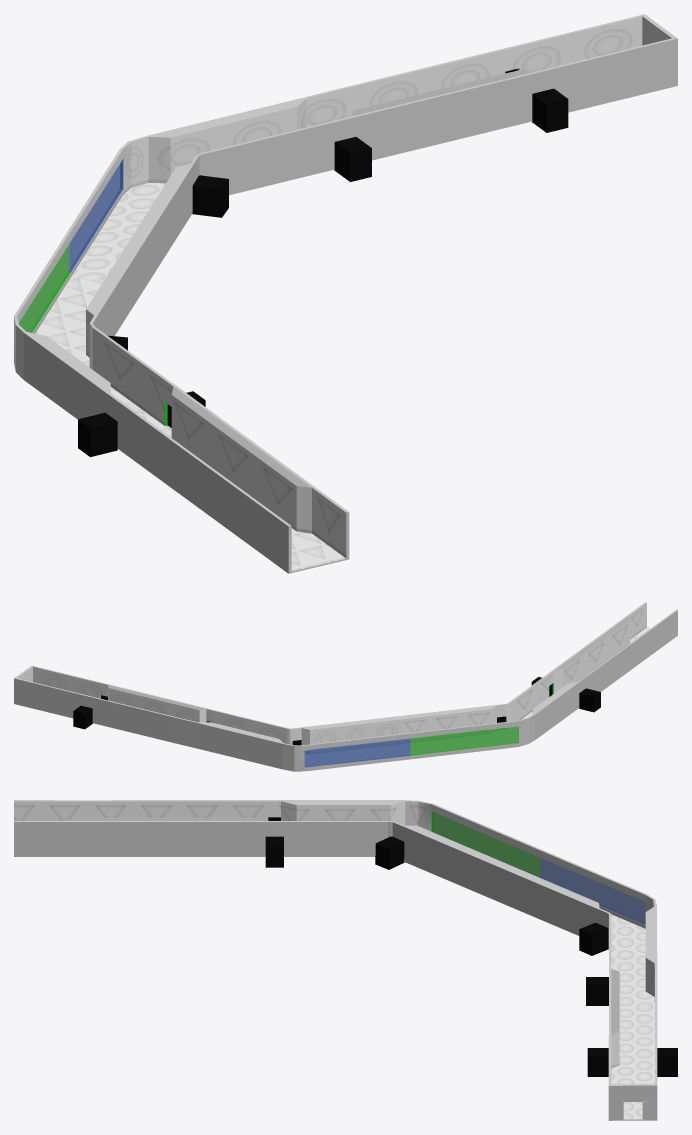
File: SM_Bridge.fbx
The picture shows the model from 3 angles, top to bottom: view 1: azimuth 30°, elevation 25°; view 2: azimuth 150°, elevation 25°; view 3: azimuth 270°, elevation 25°; orthographic projection. The views are drawn at different scales.
Parts seen in each view (by area): view 1: group_pasted__pPlane1, polySurface9, polySurface3, polySurface6, polySurface5, polySurface7; view 2: group_pasted__pPlane1, polySurface9, polySurface3, polySurface8; view 3: group_pasted__pPlane1, polySurface9, polySurface5, polySurface4, polySurface6, polySurface7, polySurface8, polySurface2.
Boxes of the visible parts, x1,y1,x2,y2 form: group_pasted__pPlane1: (14, 14, 677, 573); polySurface9: (19, 159, 122, 332); polySurface3: (78, 412, 117, 456); polySurface6: (334, 137, 371, 181); polySurface5: (192, 175, 228, 217); polySurface7: (532, 88, 568, 132); group_pasted__pPlane1: (14, 602, 677, 771); polySurface9: (304, 726, 518, 767); polySurface3: (579, 688, 600, 712); polySurface8: (73, 705, 92, 729); group_pasted__pPlane1: (14, 800, 657, 1120); polySurface9: (432, 811, 645, 923); polySurface5: (579, 922, 608, 955); polySurface4: (375, 836, 404, 869); polySurface6: (586, 977, 608, 1005); polySurface7: (587, 1048, 608, 1076); polySurface8: (657, 1048, 677, 1076); polySurface2: (265, 836, 283, 867).
Bounding box in the file's own units: 589 × 33.81 × 560.
Materials: 12 (5 with a texture image).
